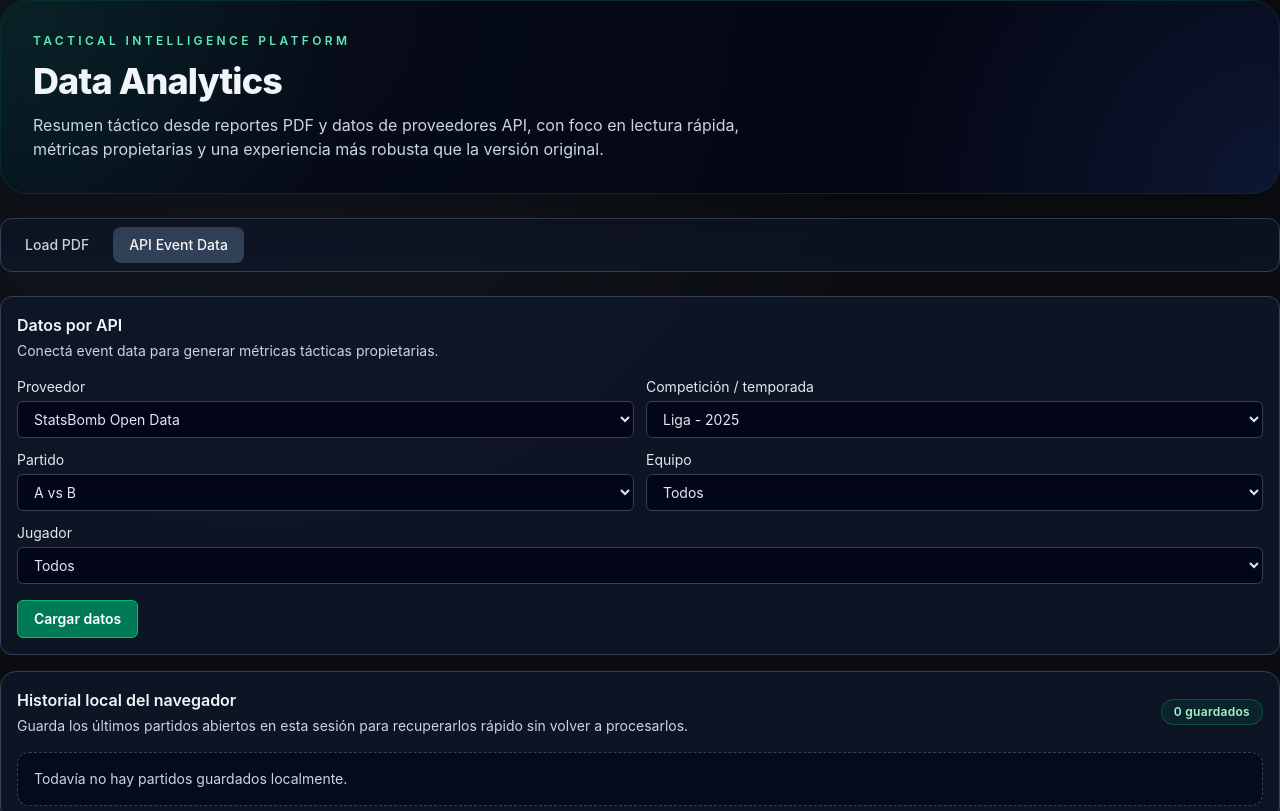
Test: Vertical2Page › carga métricas API al presionar "Cargar datos"
Click the button "Cargar datos": (78, 619) [17, 600, 138, 638]
(page scrolled)
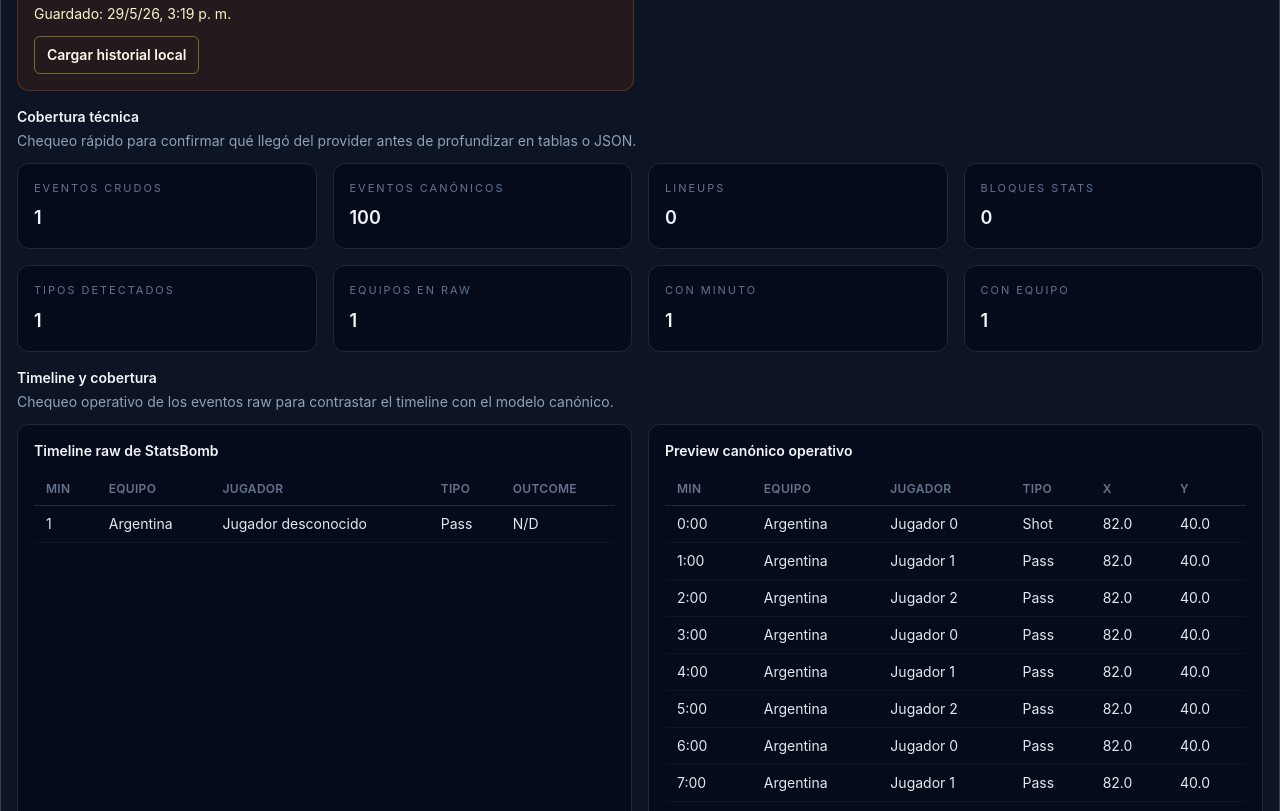
Expected: the heading "Timeline raw de StatsBomb" is shown, [34, 442, 218, 458]
